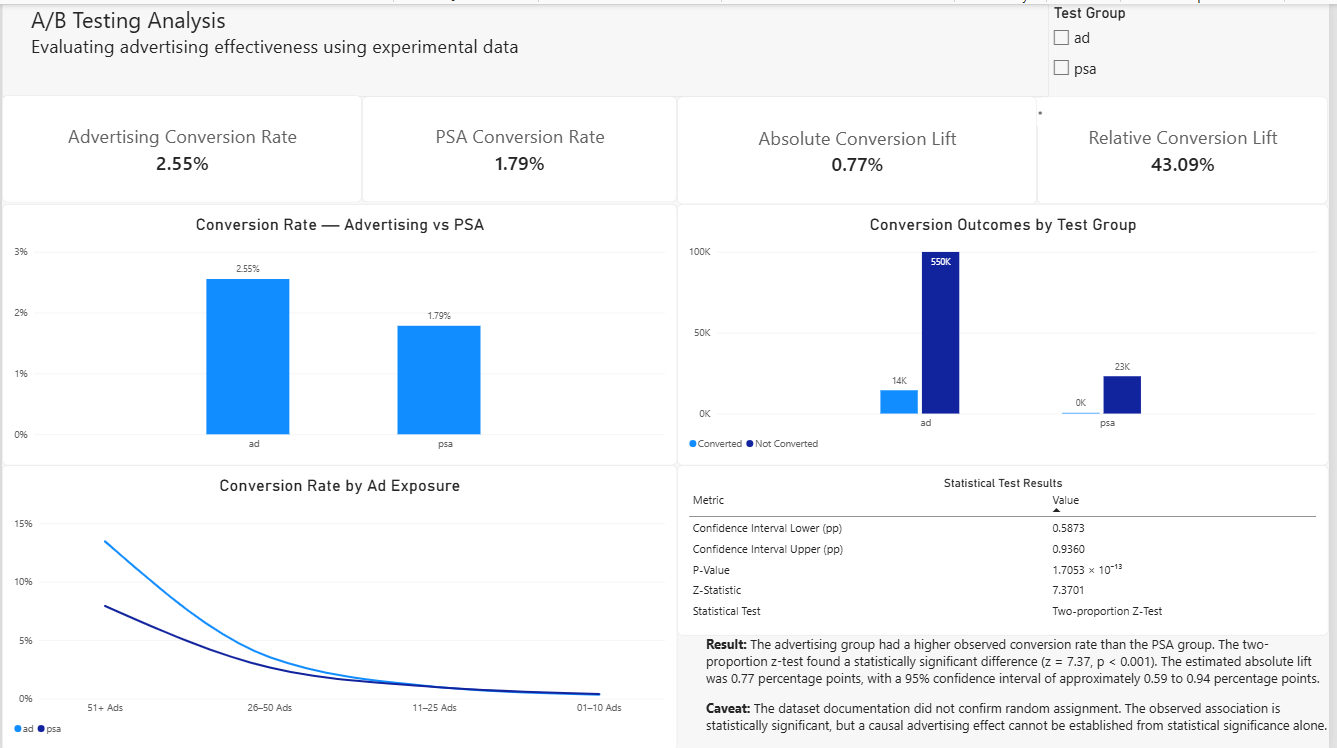

What the dashboard file says about the page in this screenshot:
{"tool":"powerbi","page":{"name":"A/B Testing Analysis","canvas":[1920,1080],"ordinal":2},"visuals":[{"type":"cardVisual","fields":{"Data":["fact_ab_test_user.Relative Conversion Lift"]},"box":[1498.4,133.9,421.7,155.6],"z":3},{"type":"textbox","box":[0,0,1514.7,133.9],"z":4},{"type":"slicer","fields":{"Values":["fact_ab_test_user.test_group"]},"box":[1514.7,0,405.4,133.9],"z":5},{"type":"cardVisual","fields":{"Data":["fact_ab_test_user.Advertising Conversion Rate"]},"box":[0,132.1,521.2,155.6],"z":6},{"type":"cardVisual","fields":{"Data":["fact_ab_test_user.PSA Conversion Rate"]},"box":[521.2,133.9,456,153.8],"z":7},{"type":"cardVisual","fields":{"Data":["fact_ab_test_user.Absolute Conversion Lift"]},"box":[977.2,133.9,521,156],"z":8},{"type":"clusteredColumnChart","title":"Conversion Rate — Advertising vs PSA","fields":{"Category":["fact_ab_test_user.test_group"],"Y":["fact_ab_test_user.Experiment Conversion Rate"]},"box":[0,289.5,977.2,378.2],"z":9},{"type":"clusteredColumnChart","title":"Conversion Outcomes by Test Group","fields":{"Category":["fact_ab_test_user.test_group"],"Series":["fact_ab_test_user.Conversion Status"],"Y":["fact_ab_test_user.Total Experiment Users"]},"box":[977.2,289.5,942.8,378.2],"z":10},{"type":"lineChart","title":"Conversion Rate by Ad Exposure","fields":{"Category":["fact_ab_test_user.Ad Exposure Band"],"Series":["fact_ab_test_user.test_group"],"Y":["fact_ab_test_user.Experiment Conversion Rate"]},"box":[0,667.8,977.2,412.6],"z":11},{"type":"tableEx","title":"Statistical Test Results","fields":{"Values":["AB Test Summary.Metric ","AB Test Summary.Value"]},"box":[977.2,667.8,942.8,246.1],"z":12},{"type":"textbox","box":[977.2,913.9,942.8,166.5],"z":13}]}

Visuals, with their boxes in screenshot pixels (x1, y1, x2, y2), scaled from the page's 1920x1080 canvas onto the 1337x748 screenshot:
cardVisual - fact_ab_test_user.Relative Conversion Lift: Rect(1043, 93, 1336, 201)
textbox: Rect(0, 0, 1055, 93)
slicer - fact_ab_test_user.test_group: Rect(1055, 0, 1336, 93)
cardVisual - fact_ab_test_user.Advertising Conversion Rate: Rect(0, 91, 363, 199)
cardVisual - fact_ab_test_user.PSA Conversion Rate: Rect(363, 93, 680, 199)
cardVisual - fact_ab_test_user.Absolute Conversion Lift: Rect(680, 93, 1043, 201)
"Conversion Rate — Advertising vs PSA" clusteredColumnChart: Rect(0, 201, 680, 462)
"Conversion Outcomes by Test Group" clusteredColumnChart: Rect(680, 201, 1336, 462)
"Conversion Rate by Ad Exposure" lineChart: Rect(0, 463, 680, 747)
"Statistical Test Results" tableEx: Rect(680, 463, 1336, 633)
textbox: Rect(680, 633, 1336, 747)
